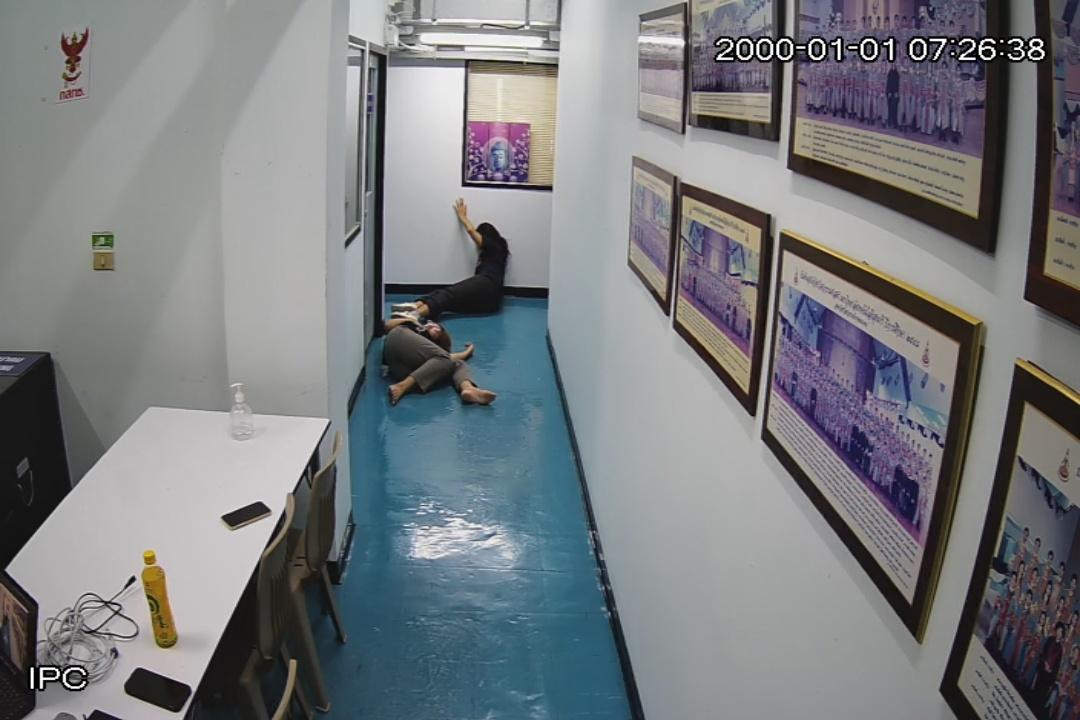fall: (378, 197, 524, 318), (371, 312, 504, 412)
